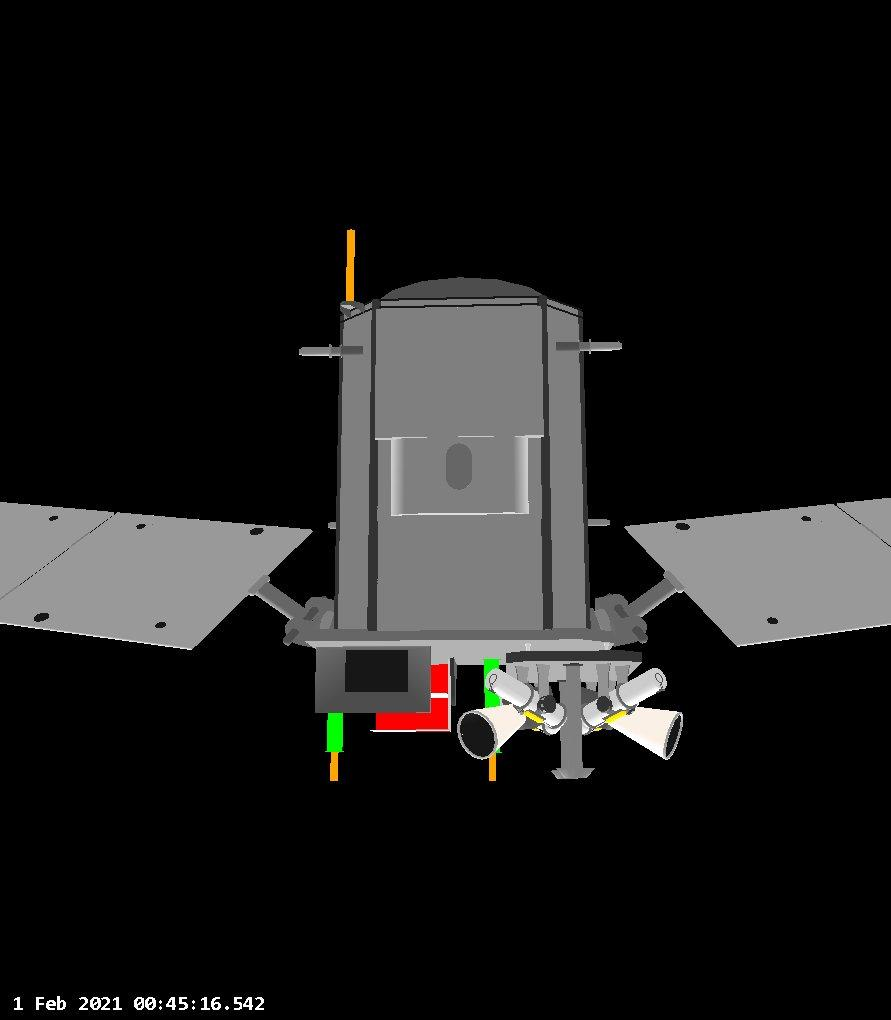antenna: (549, 659, 595, 786), (552, 326, 628, 362), (323, 705, 355, 787), (292, 337, 375, 368), (340, 228, 357, 309)
body: (334, 276, 614, 675)
solar: (0, 502, 313, 650), (623, 496, 891, 651)
thruster: (603, 700, 685, 764), (452, 707, 535, 759)
